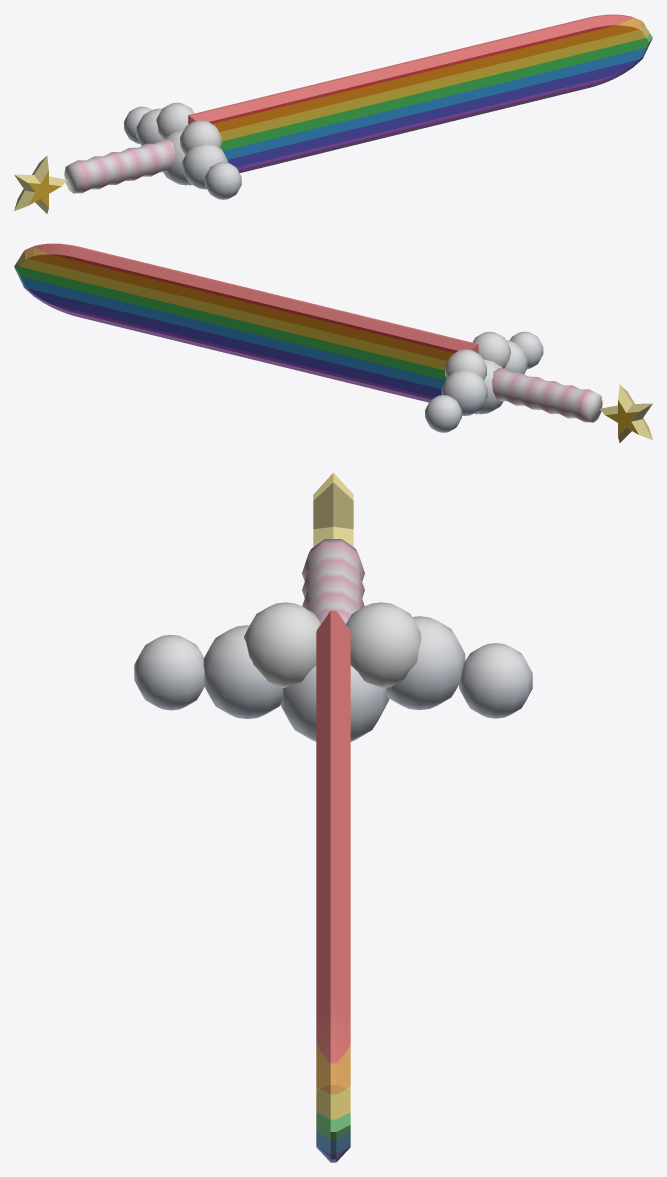
The model's file is sword_rainbow.glb.
3 renders of one model, top to bottom at view 1: azimuth 30°, elevation 25°; view 2: azimuth 150°, elevation 25°; view 3: azimuth 270°, elevation 25°, orthographic. The views are drawn at different scales.
Visible parts, largest first — view 1: sword_rainbow; view 2: sword_rainbow; view 3: sword_rainbow.
Boxes of the visible parts, x1,y1,x2,y2 form: sword_rainbow: [14, 14, 652, 213]; sword_rainbow: [14, 243, 652, 442]; sword_rainbow: [134, 472, 532, 1162].
Bounding box in the file's own units: 1.54 × 0.165 × 0.4172.
